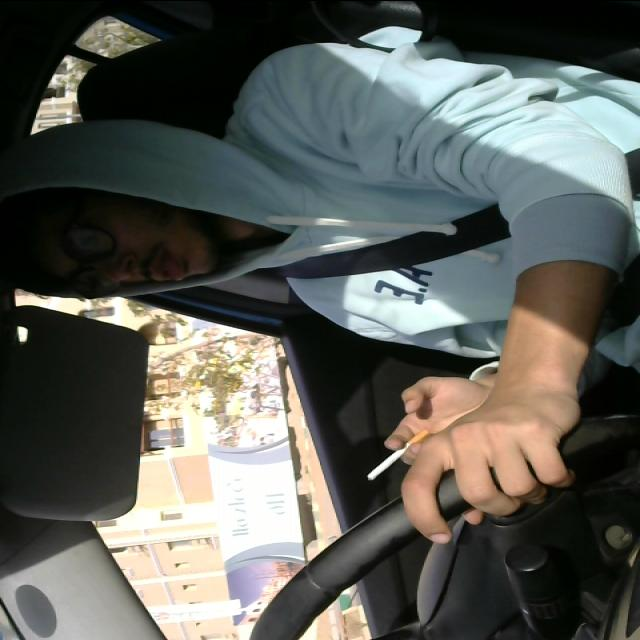smoking: (360, 425, 440, 486)
